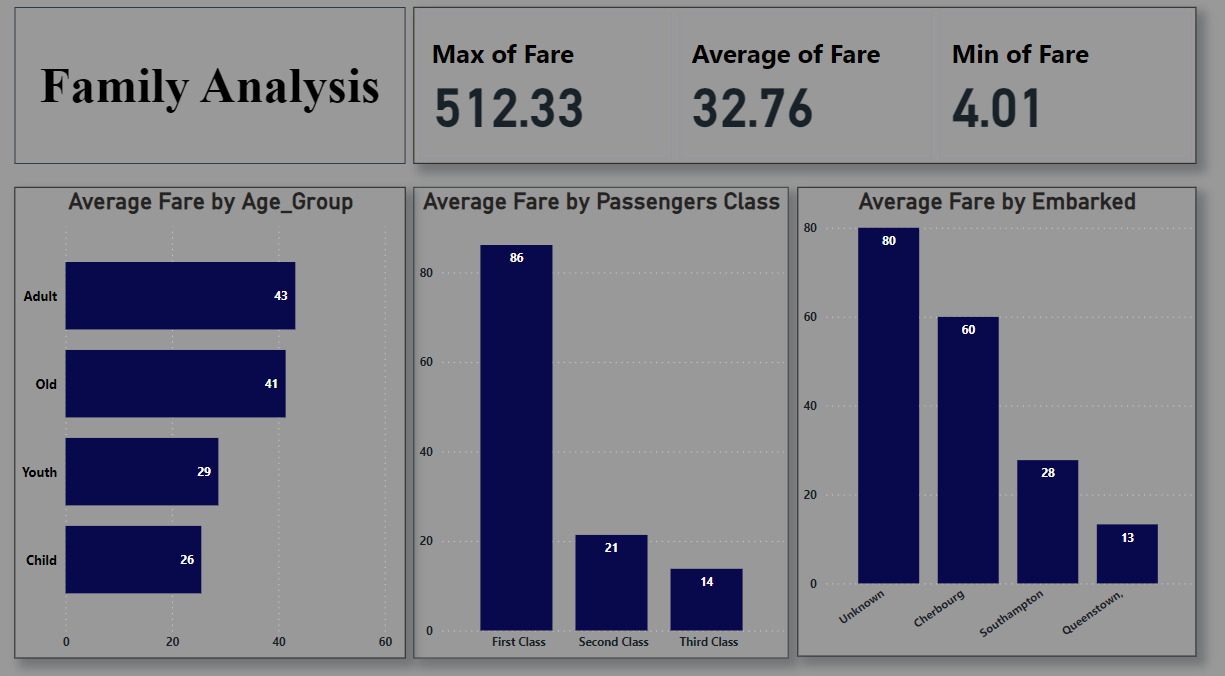

Layout of this report page (visuals, bound fields, positions):
{"tool":"powerbi","page":{"name":" Fare Analysis","canvas":[1280,720],"ordinal":3},"visuals":[{"type":"columnChart","title":"Average Fare by Passengers Class","fields":{"Y":["Avg(Titanic - Titanic.Fare)"],"Category":["Titanic - Titanic.Passengers_Cl"]},"box":[434.6,211.7,389.3,489.5],"z":0},{"type":"cardVisual","fields":{"Data":["Max(Titanic - Titanic.Fare)","Avg(Titanic - Titanic.Fare)","Min(Titanic - Titanic.Fare)"]},"box":[434.6,24.6,812.6,162.5],"z":1000},{"type":"clusteredBarChart","title":"Average  Fare by Age_Group","fields":{"Category":["Titanic - Titanic.Age_G"],"Y":["Avg(Titanic - Titanic.Fare)"]},"box":[20.8,211.7,406.3,489.5],"z":2000},{"type":"columnChart","title":"Average Fare by Embarked","fields":{"Y":["Avg(Titanic - Titanic.Fare)"],"Category":["Titanic - Titanic.Embarked"]},"box":[833.4,211.7,413.9,487.6],"z":3000},{"type":"shape","box":[21,25,406,163],"z":3001}]}

Visuals, with their boxes in screenshot pixels (x1, y1, x2, y2), scaled from the page's 1280x720 canvas onto the 1225x676 screenshot:
"Average Fare by Passengers Class" columnChart: (left=416, top=199, right=788, bottom=658)
cardVisual - Max(Titanic - Titanic.Fare) x Avg(Titanic - Titanic.Fare): (left=416, top=23, right=1194, bottom=176)
"Average  Fare by Age_Group" clusteredBarChart: (left=20, top=199, right=409, bottom=658)
"Average Fare by Embarked" columnChart: (left=798, top=199, right=1194, bottom=657)
shape: (left=20, top=23, right=409, bottom=177)
